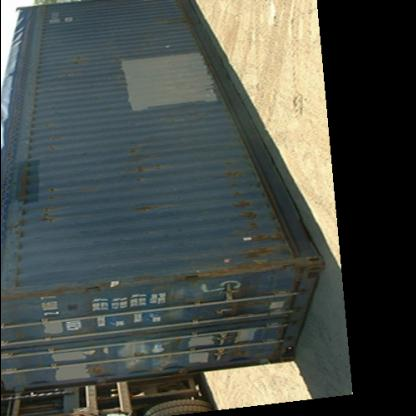Damage: (220, 172, 276, 281), (120, 144, 162, 186), (31, 182, 61, 230), (126, 201, 172, 219), (61, 51, 91, 74)
